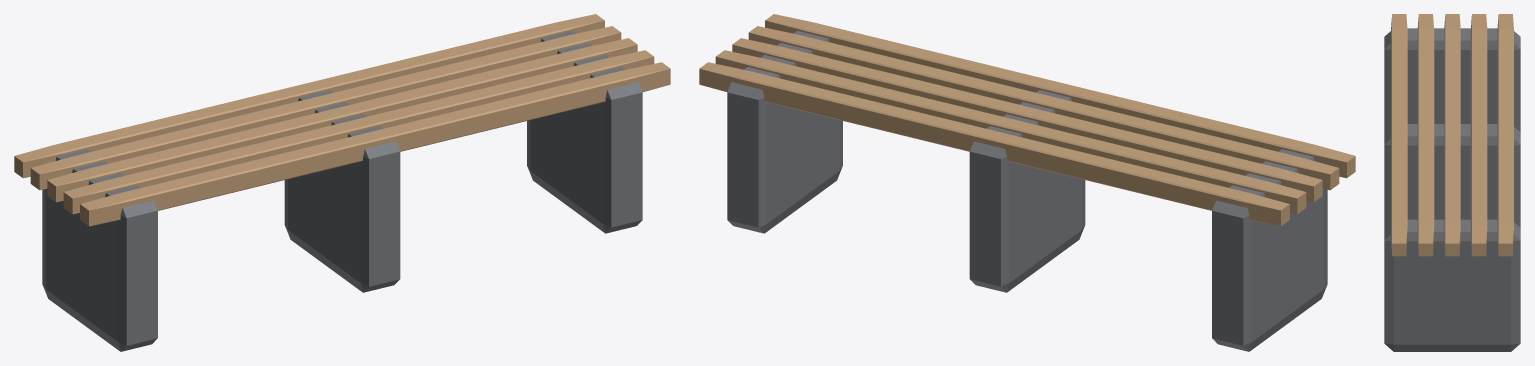
Rendered from b01_backless_boardwalk_bench.glb.
The picture shows the model from 3 angles, left to right: view 1: azimuth 30°, elevation 25°; view 2: azimuth 150°, elevation 25°; view 3: azimuth 270°, elevation 25°; orthographic projection. The views are drawn at different scales.
Parts seen in each view (by area): view 1: b01_backless_boardwalk_bench; view 2: b01_backless_boardwalk_bench; view 3: b01_backless_boardwalk_bench.
Boxes of the visible parts, <box> form: b01_backless_boardwalk_bench: <box>14,14,670,351</box>; b01_backless_boardwalk_bench: <box>699,14,1355,351</box>; b01_backless_boardwalk_bench: <box>1384,14,1520,351</box>.
Bounding box in the file's own units: 2.15 × 0.535 × 0.54.
